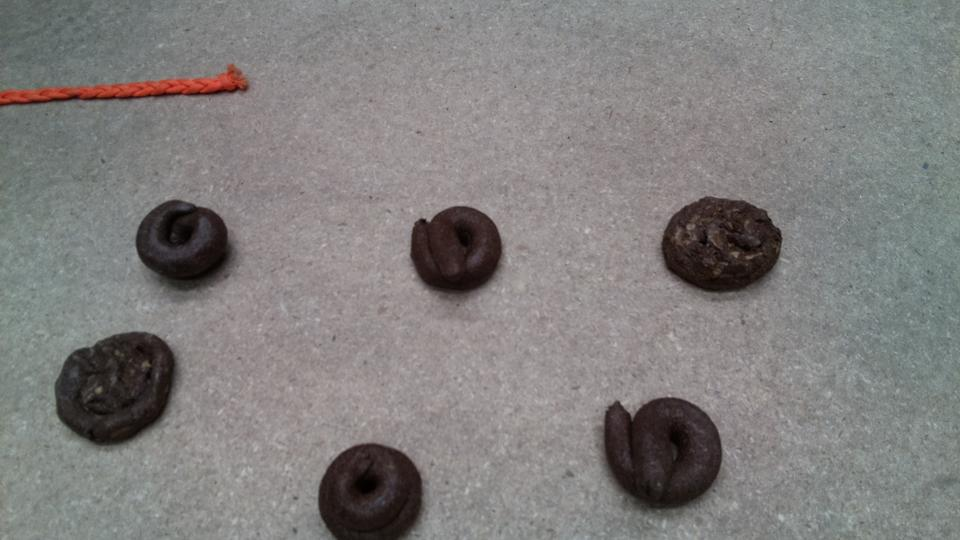poop: (53, 328, 177, 448), (601, 393, 724, 510), (658, 193, 787, 296), (314, 437, 427, 540), (408, 202, 505, 297), (133, 196, 231, 287)
rope: (1, 59, 251, 107)
